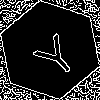Y: (25, 25, 83, 82)
